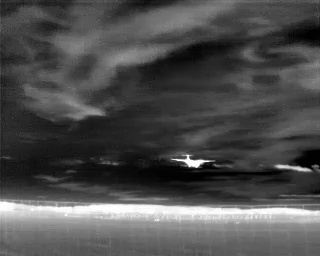AIRPLANE: (166, 149, 217, 171)
